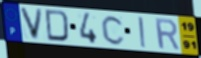4: (79, 12, 99, 45)
C: (100, 14, 126, 47)
D: (44, 8, 71, 43)
I: (137, 16, 148, 49)
R: (153, 17, 181, 52)
V: (18, 6, 45, 42)
